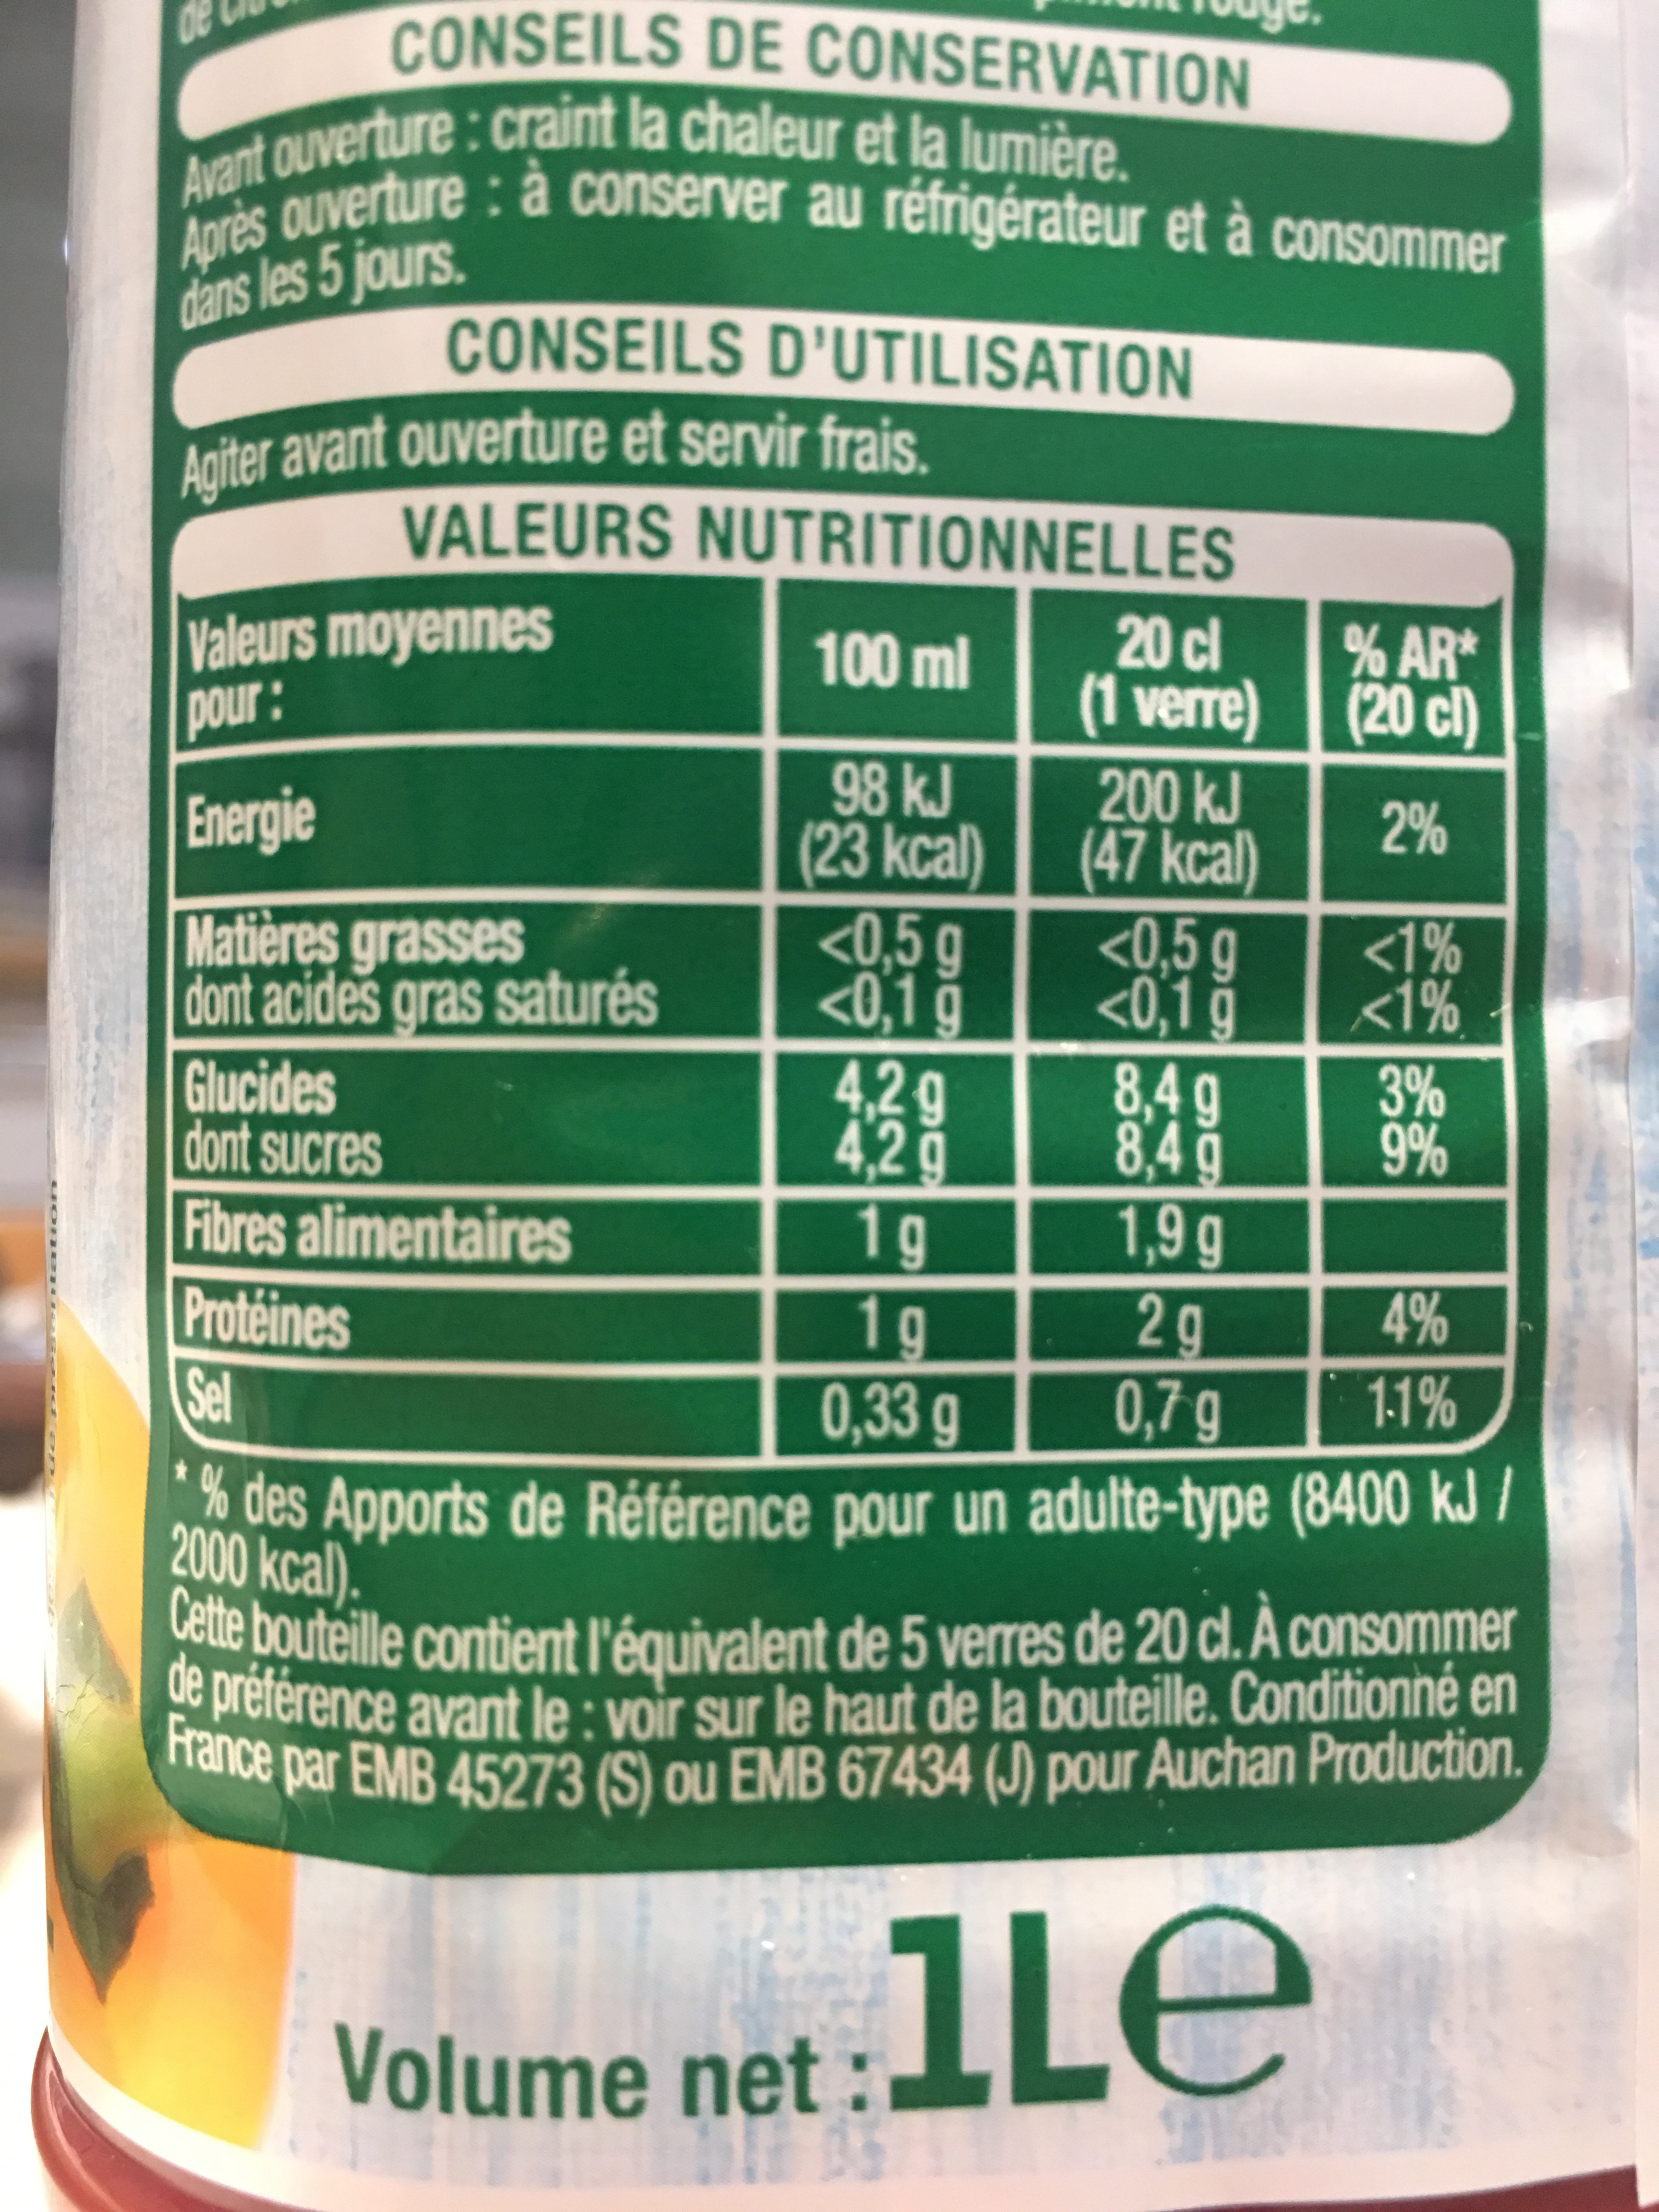column: (179, 613, 671, 1433), (1077, 611, 1267, 1439), (795, 629, 985, 1437), (1338, 617, 1473, 1433)
table: (164, 488, 1520, 1470)
